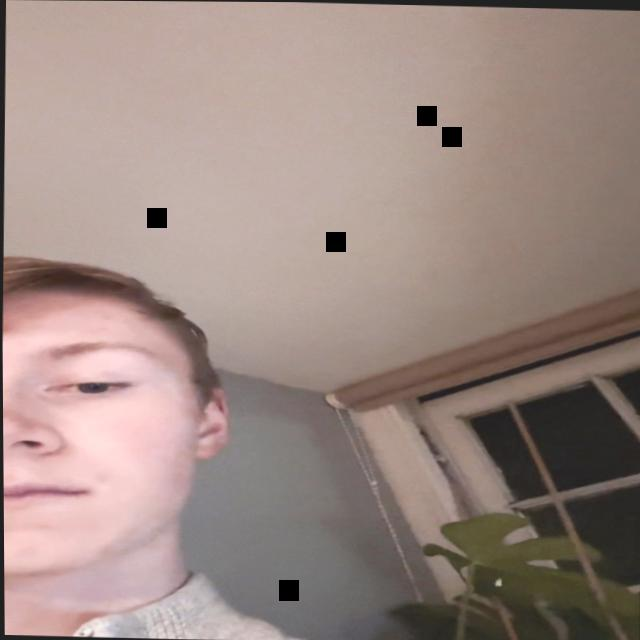NO-Mask: (2, 279, 196, 581)
